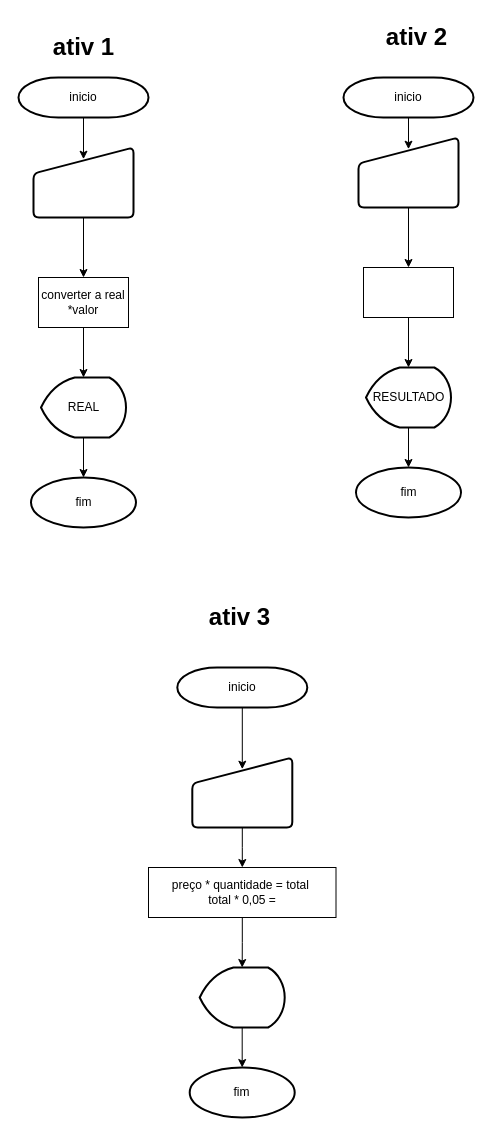
Image size: 491x1135. Some labels were removed from this diagram. The shapes that lost their labels are listed below. From the top down, each one's box as (x1, y1, x2, y2) in pixels, then its label:
(32, 146, 134, 218): cotação dolar, valor em dolares
(357, 136, 459, 208): N1,N2,N3,N4
(362, 266, 454, 318): resultado = N1² +N2²+N3²+N4²
(191, 756, 293, 828): ID vendedor,cod p, quantidade, valor uni,
(198, 966, 285, 1028): comissão
